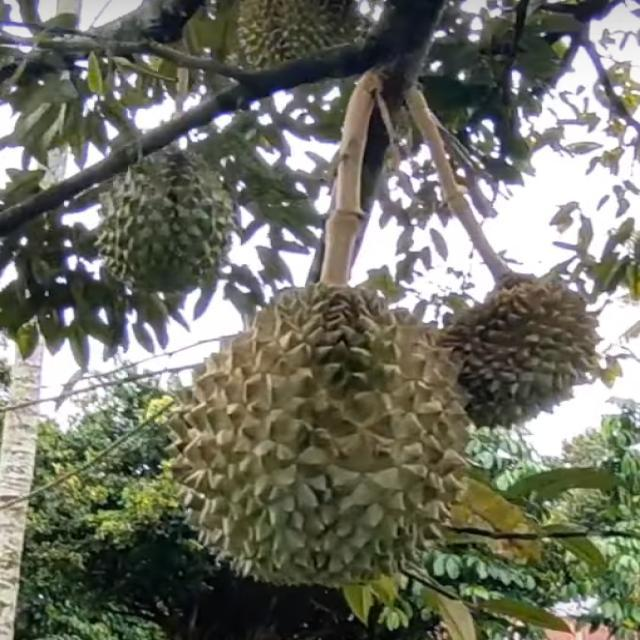immature: (174, 281, 476, 591), (102, 143, 232, 284)
mature: (447, 274, 600, 428)
